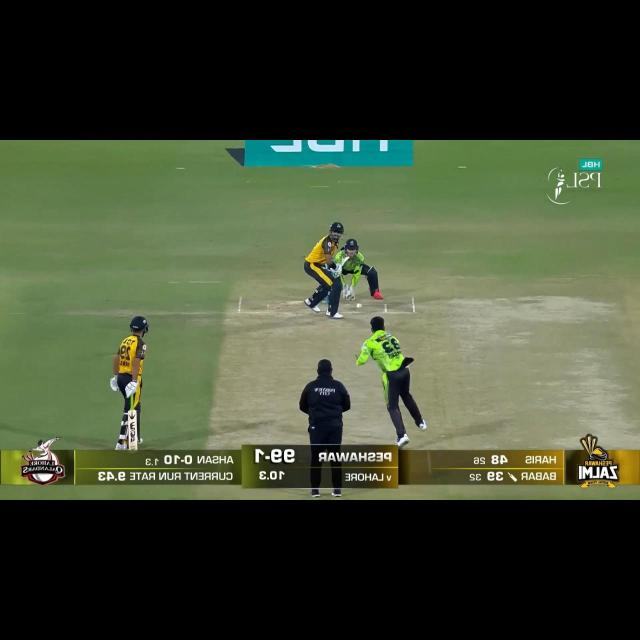bat: (125, 411, 140, 452), (338, 256, 351, 269)
toe: (125, 444, 138, 451), (344, 256, 351, 261)
